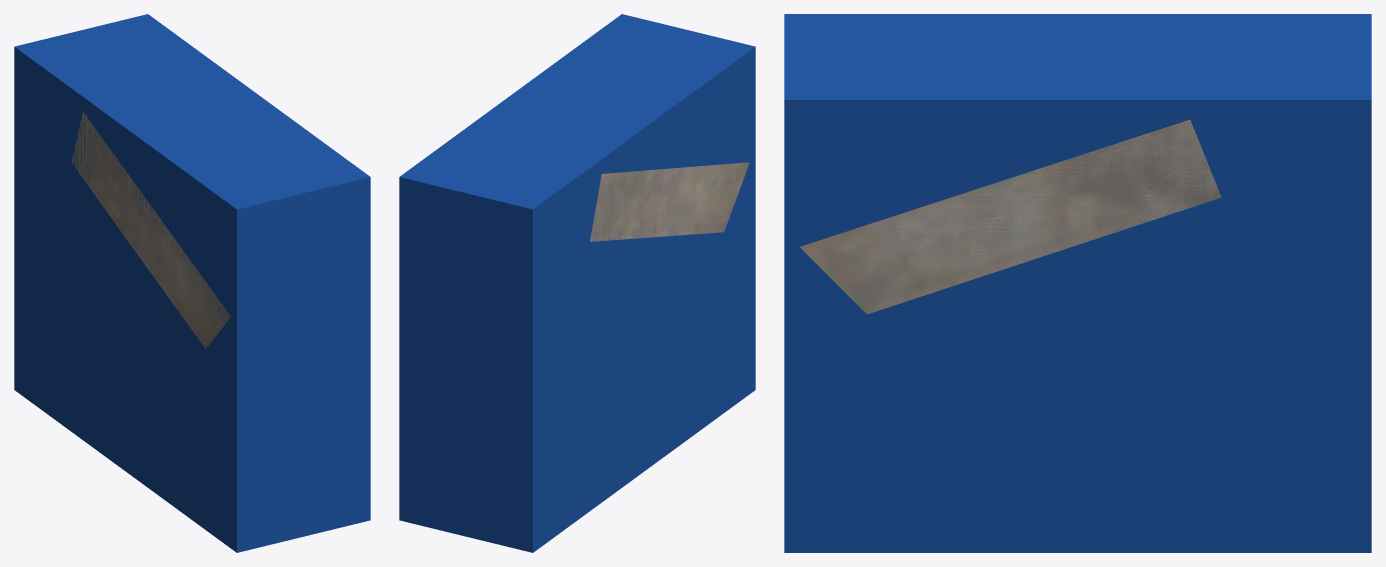
File: security_camera.DAE
The picture shows the model from 3 angles, left to right: view 1: azimuth 30°, elevation 25°; view 2: azimuth 150°, elevation 25°; view 3: azimuth 270°, elevation 25°; orthographic projection. The views are drawn at different scales.
Parts seen in each view (by area): view 1: bounds, security_camera; view 2: bounds, security_camera; view 3: bounds, security_camera.
Part boxes in pixels (x1=…): bounds: x1=14, y1=14, x2=370, y2=552; security_camera: x1=71, y1=112, x2=230, y2=348; bounds: x1=399, y1=14, x2=755, y2=552; security_camera: x1=590, y1=162, x2=749, y2=241; bounds: x1=784, y1=14, x2=1371, y2=552; security_camera: x1=800, y1=119, x2=1221, y2=314.
Size of the model in its own units: 16.97 by 48.95 by 41.67.
